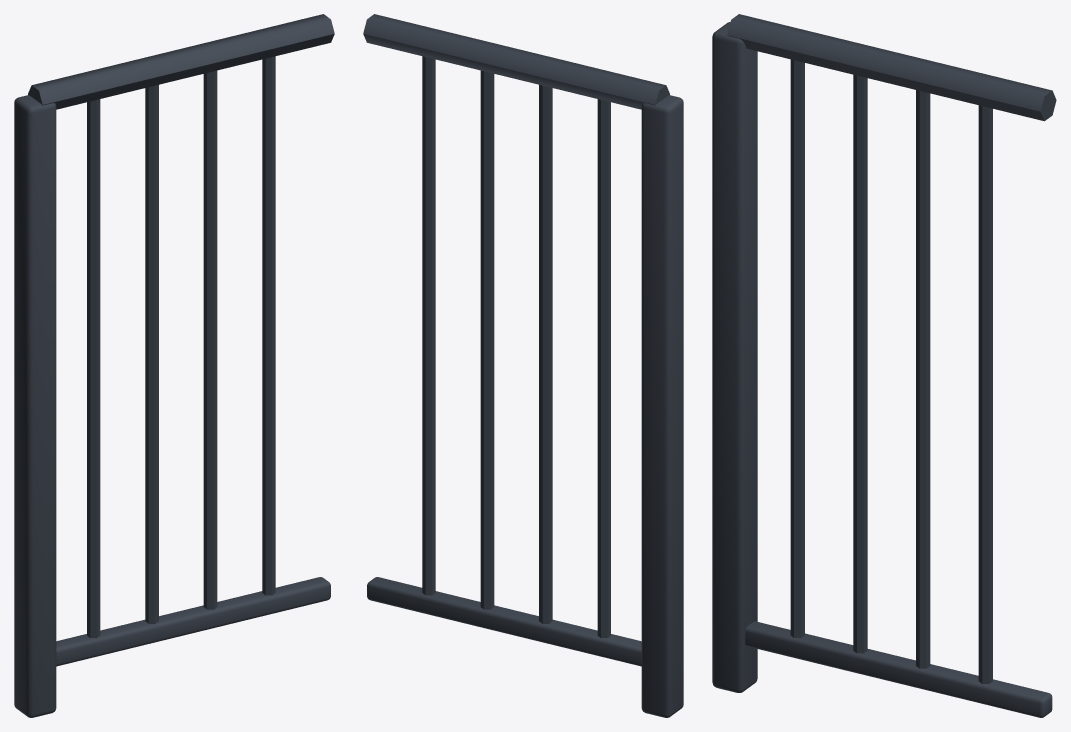
The model's file is guarda_corpo_metal_0_5m.glb.
3 views of the same model, side by side, from view 1: azimuth 30°, elevation 25°; view 2: azimuth 150°, elevation 25°; view 3: azimuth 330°, elevation 25° (orthographic). The views are drawn at different scales.
Parts seen in each view (by area): view 1: guarda_corpo_metal_0_5m; view 2: guarda_corpo_metal_0_5m; view 3: guarda_corpo_metal_0_5m.
Part boxes in pixels (box(x1,y1,x2,y2)): guarda_corpo_metal_0_5m: box(14, 14, 334, 717); guarda_corpo_metal_0_5m: box(363, 14, 683, 717); guarda_corpo_metal_0_5m: box(712, 14, 1056, 717).
Bounding box in the file's own units: 0.525 × 1.02 × 0.05.
1 material, 1 textured.
